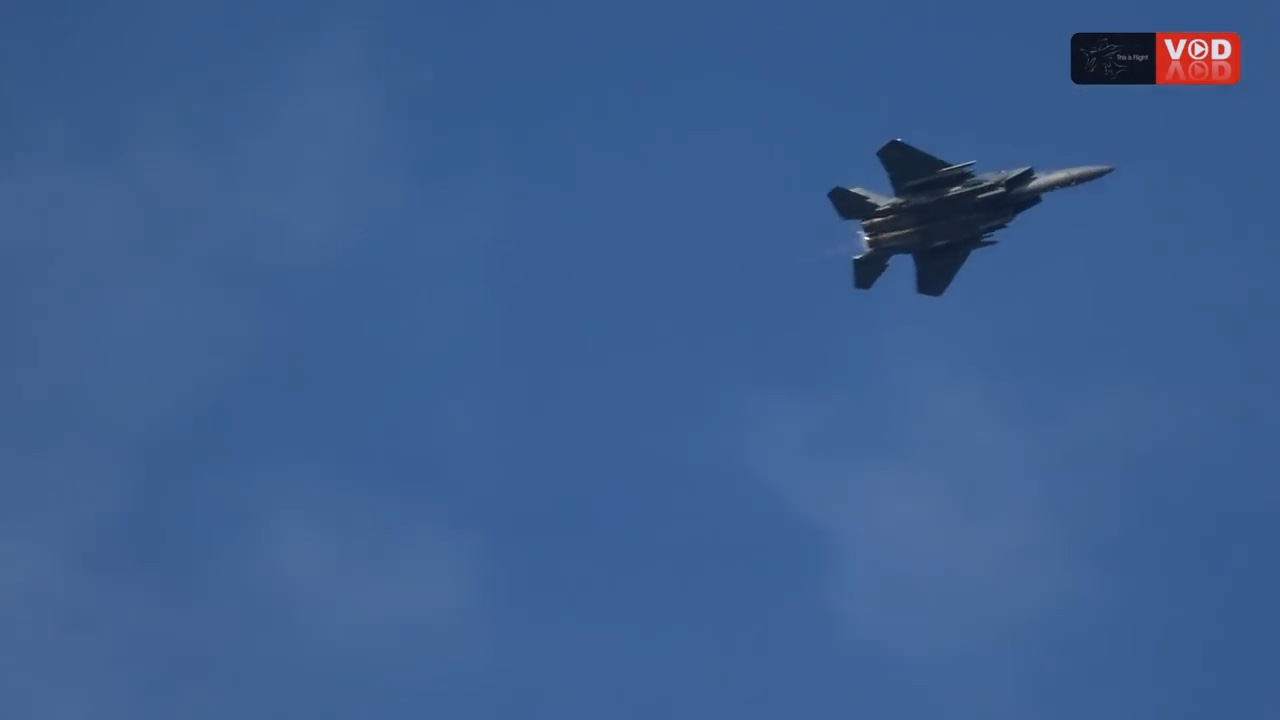f15: (825, 138, 1118, 302)
